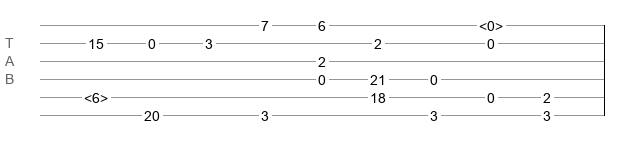0: (148, 36, 156, 46), (318, 72, 326, 82), (430, 72, 438, 82), (487, 36, 495, 46), (487, 90, 495, 100)
15: (88, 36, 104, 46)
18: (370, 90, 386, 100)
2: (318, 54, 326, 64), (374, 36, 382, 46), (543, 90, 551, 100)
20: (144, 108, 160, 118)
21: (370, 72, 386, 82)
3: (205, 36, 213, 46), (261, 108, 269, 118), (430, 108, 438, 118), (543, 108, 551, 118)
6: (318, 18, 326, 28)
7: (261, 18, 269, 28)
harmonic: (84, 90, 108, 100), (479, 18, 503, 28)
